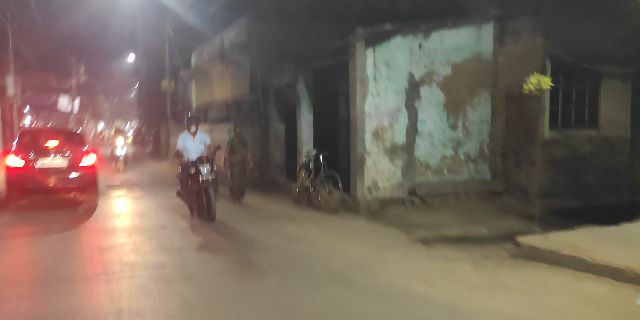Car: (8, 127, 105, 203)
Motorbike: (175, 111, 224, 223)
